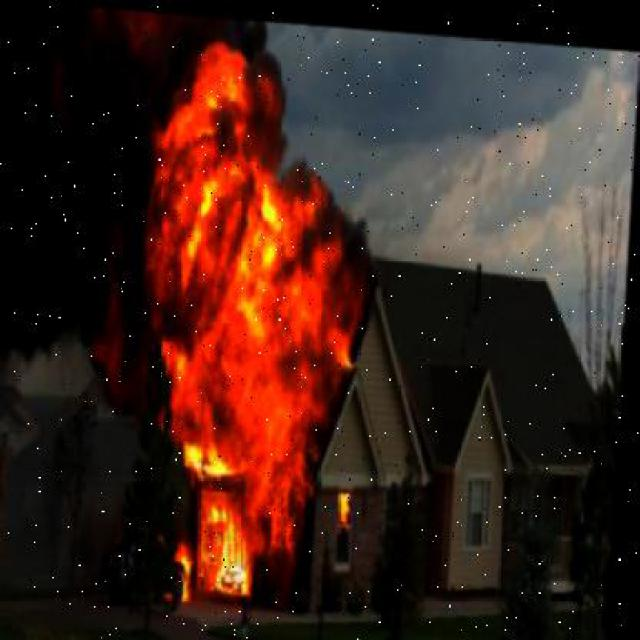fire: (122, 55, 393, 536)
